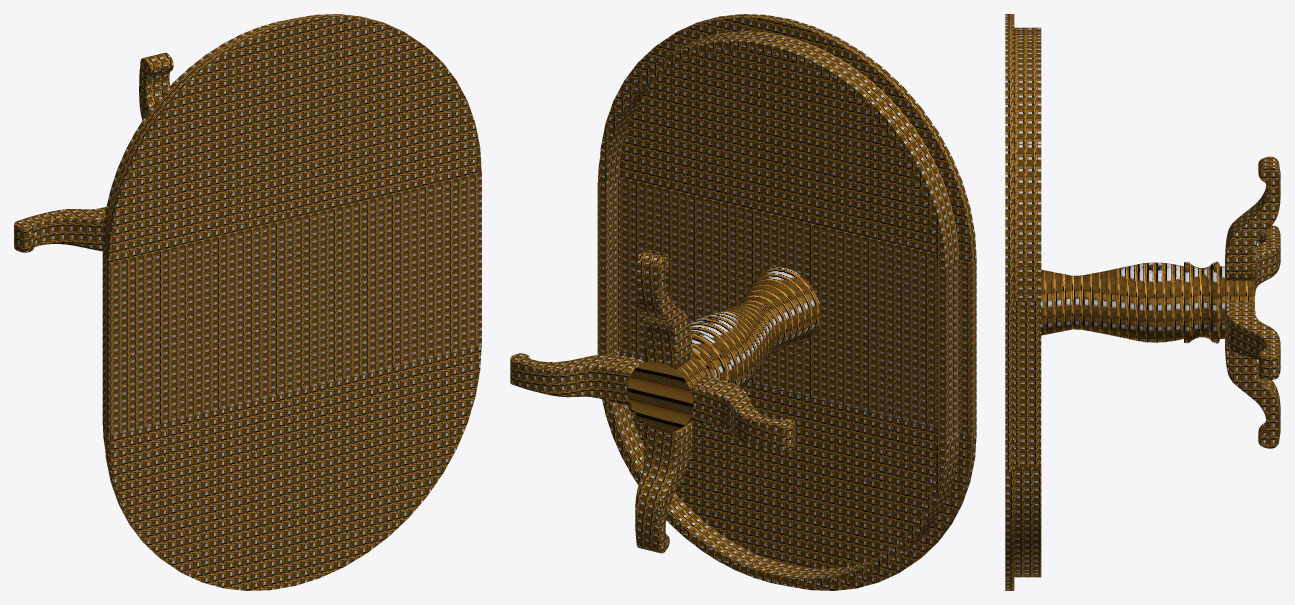
Rendered from 16697_Straight_Leg_Round_Table_Oak_V1.obj.
The picture shows the model from 3 angles, left to right: view 1: azimuth 30°, elevation 25°; view 2: azimuth 150°, elevation 25°; view 3: azimuth 270°, elevation 25°; orthographic projection. The views are drawn at different scales.
Visible parts, largest first — view 1: Box1386, Cylinder22, Cylinder21, Box1381, Tube14, Box1385; view 2: Cylinder22, Box1386, Cylinder21, Cylinder20, Tube14, Tube13, Box1382, Box1384, Box1385, Box1381, Box1380, Box1383; view 3: Cylinder20, Tube14, Box1383, Box1385, Tube13, Cylinder22, Box1384, Box1382, Box1386, Box1381, Cylinder21.
Boxes of the visible parts, x1,y1,x2,y2 form: Box1386: (104,172,481,435); Cylinder22: (104,14,481,262); Cylinder21: (104,345,481,590); Box1381: (14,207,106,252); Tube14: (102,19,287,247); Box1385: (139,52,173,120); Cylinder22: (600,14,976,262); Box1386: (620,177,976,436); Cylinder21: (620,350,976,590); Cylinder20: (627,267,820,432); Tube14: (597,30,959,270); Tube13: (602,350,959,587); Box1382: (635,422,692,553); Box1384: (510,353,643,405); Box1385: (635,251,692,369); Box1381: (690,376,795,450); Box1380: (937,260,959,443); Box1383: (597,177,619,354); Cylinder20: (1041,261,1254,343); Tube14: (1014,27,1041,300); Box1383: (1014,301,1040,466); Box1385: (1225,156,1280,280); Tube13: (1014,336,1041,577); Cylinder22: (1005,14,1014,306); Box1384: (1225,301,1280,379); Box1382: (1225,339,1280,448); Box1386: (1005,306,1014,472); Box1381: (1255,225,1280,294); Cylinder21: (1005,472,1014,590).
Size of the model in its own units: 115 by 166 by 76.75.
